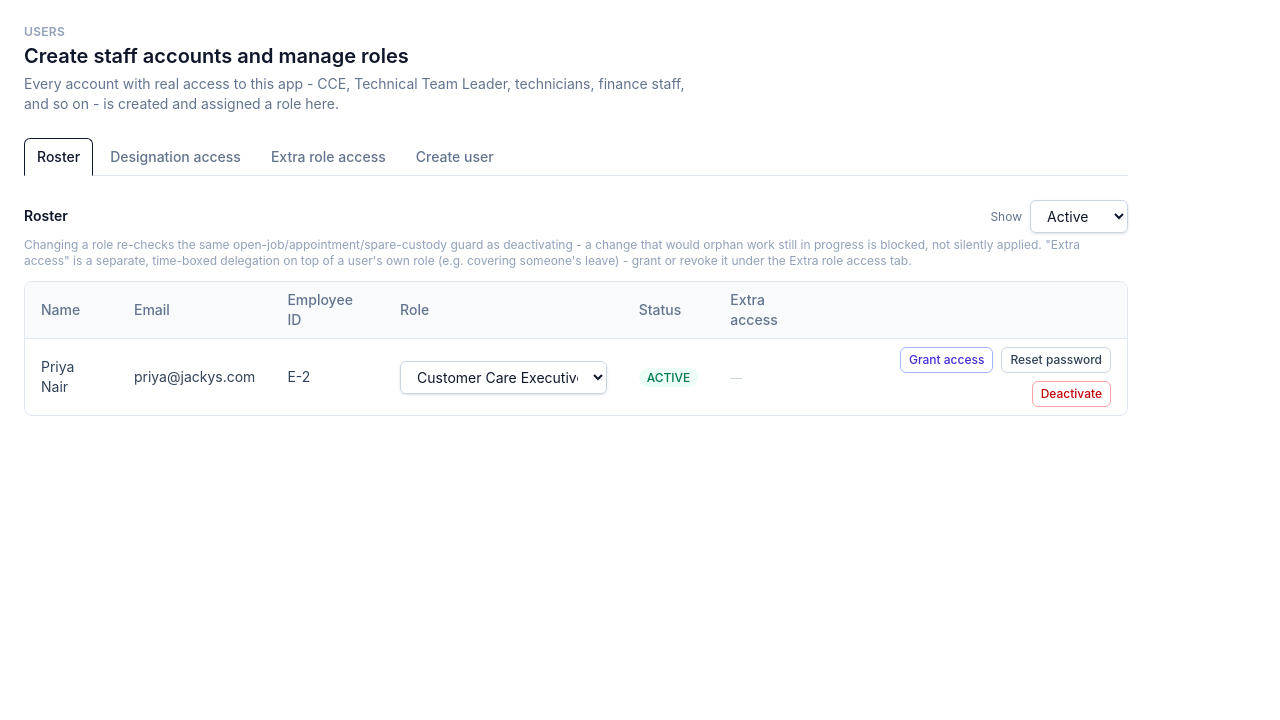
UsersPage - reset password › opens a reset-password modal from a user's row and resets on submit with matching passwords
The width and height of the screenshot is (1280, 720).
Click the button "Reset password": (1056, 360) [1001,347,1111,373]
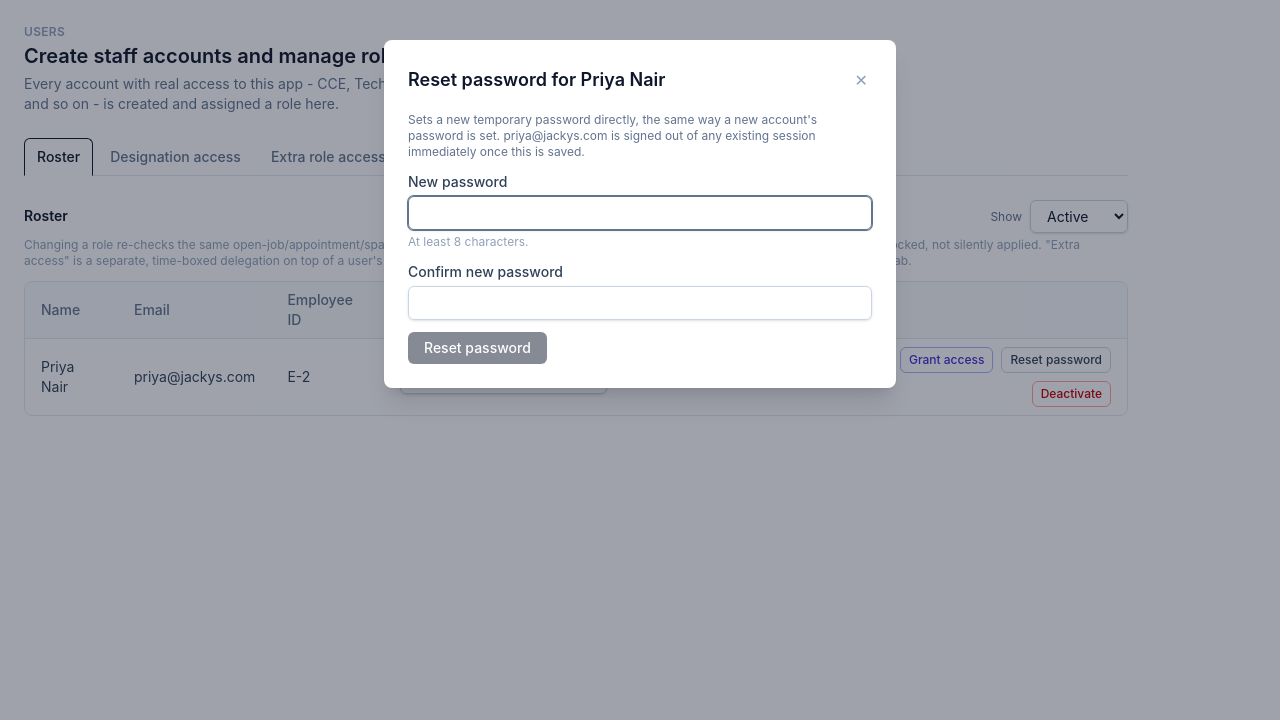
In the field labelled "New password At least 8 characters.": (640, 213) [408,196,872,230], type "Welcome2026!"
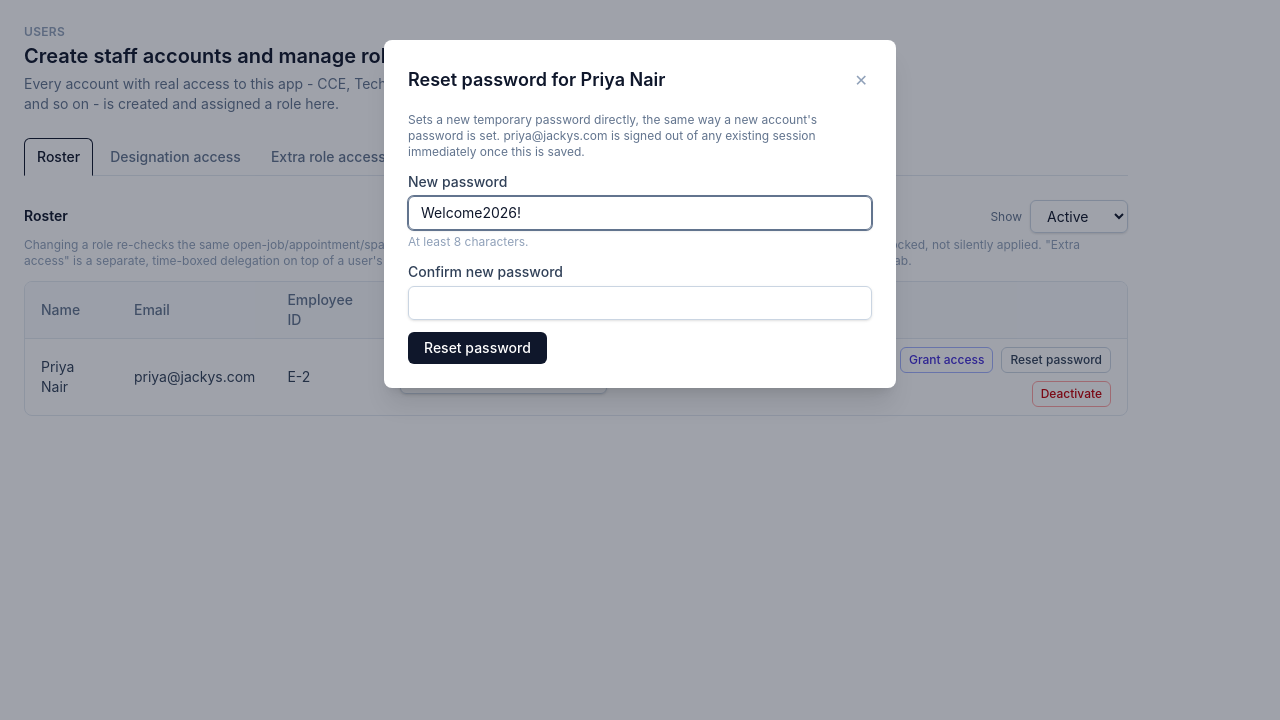
In the field labelled "Confirm new password": (640, 303) [408,286,872,320], type "Welcome2026!"
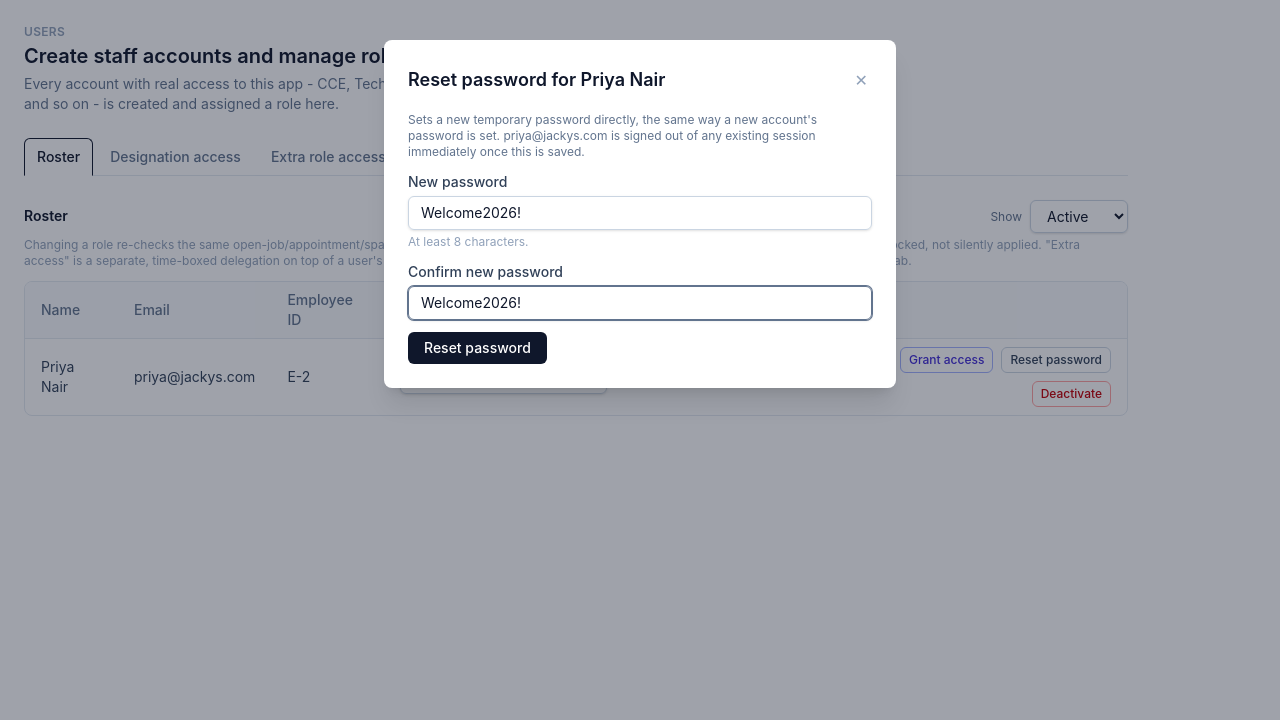
Click the button "Reset password": (477, 348) [408,332,547,364]
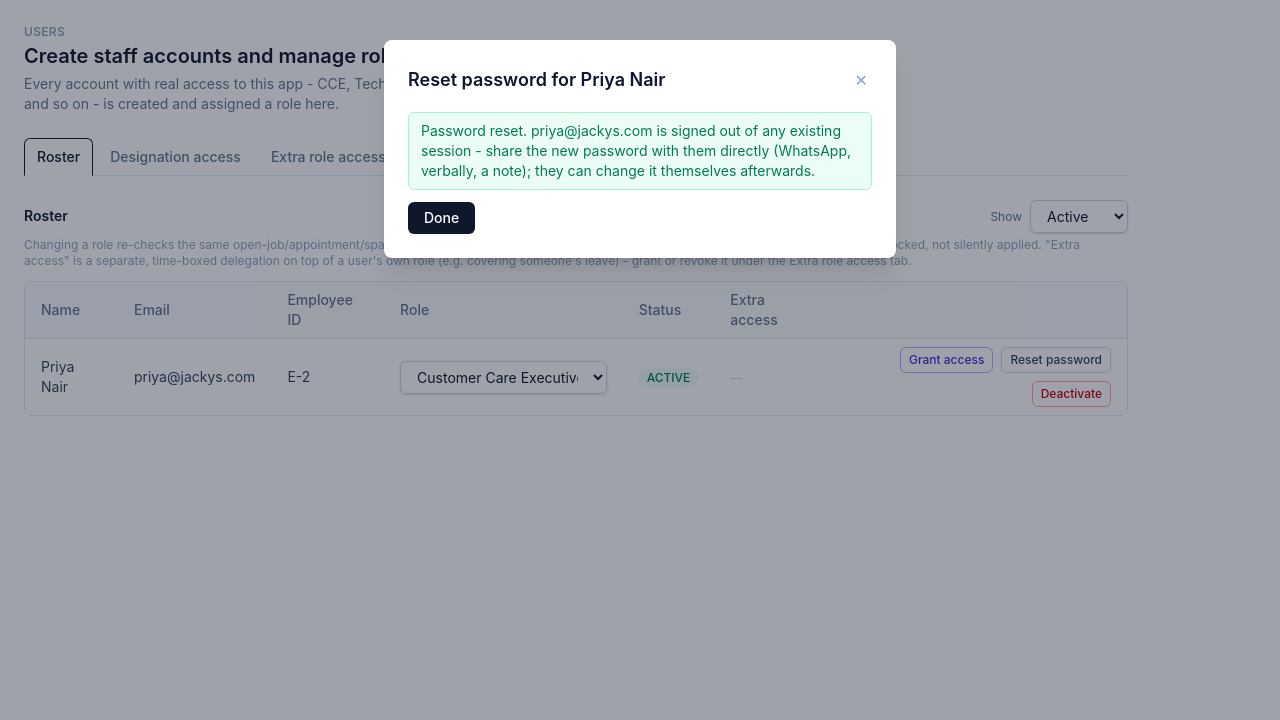
Now the text "Password reset. priya@jackys.com is signed out" is shown, box [408,112,872,190]
